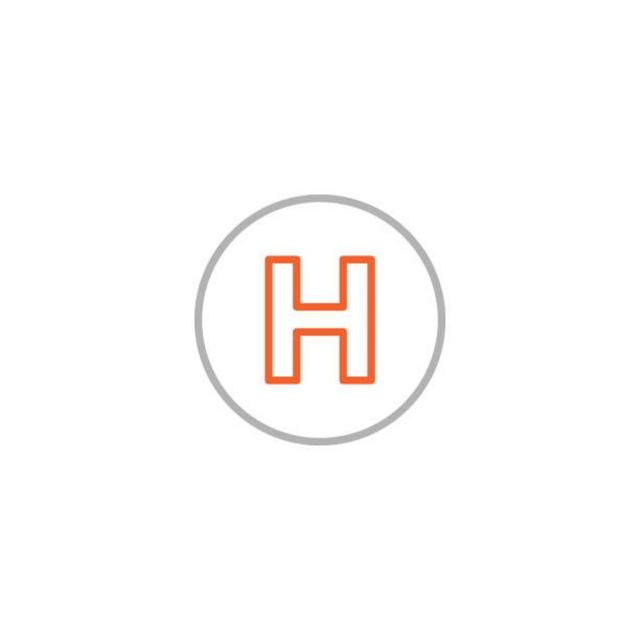helipad: (193, 192, 448, 448)
